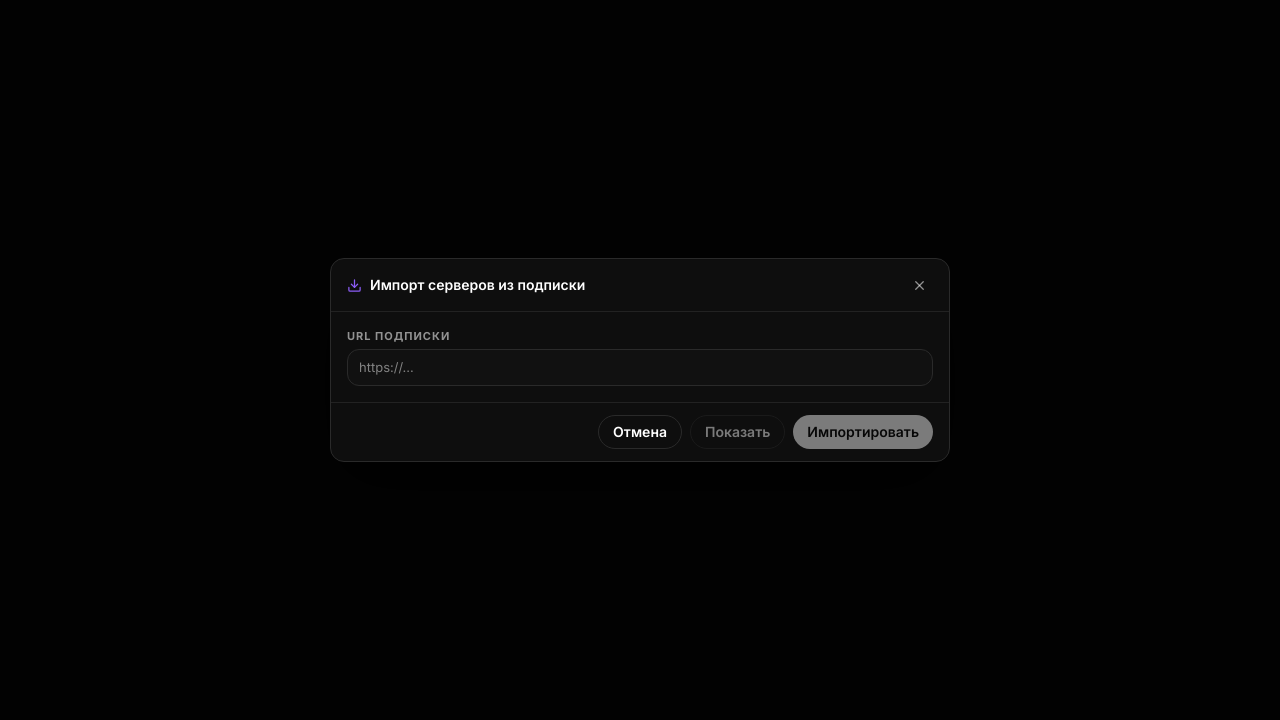
ImportFromSubscription › shows the backend error instead of failing silently
In the field with placeholder "https://…": [640, 367] box [347,348,933,386], type "https://x/y"
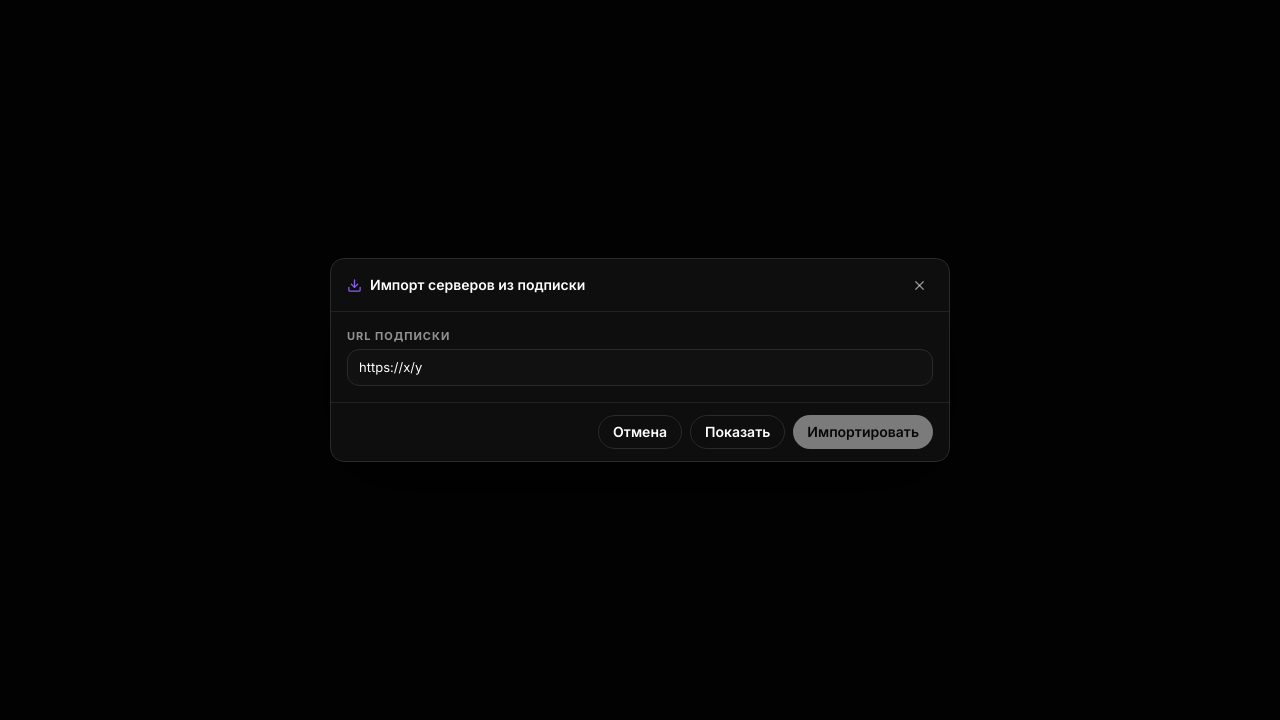
Click the button "Показать": [738, 432] box [690,415,785,449]
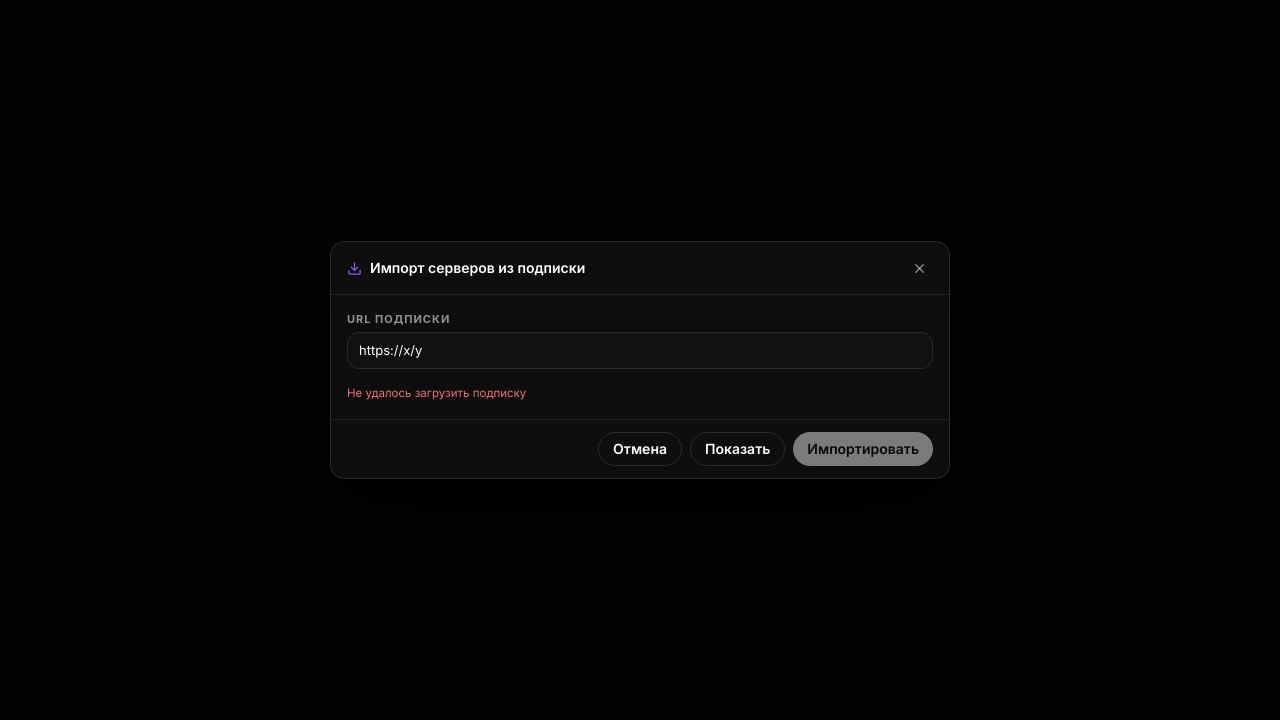
Result: the text "Не удалось загрузить подписку" is shown at [347,386,526,400]
